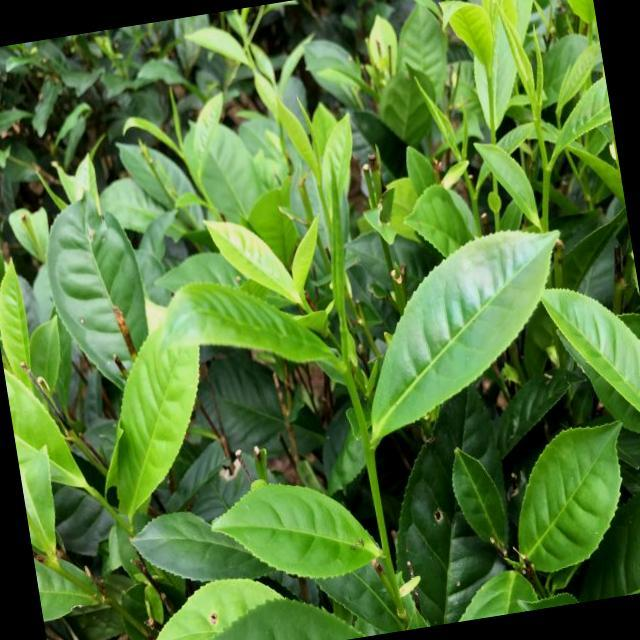Stem: (543, 166, 551, 175), (472, 193, 477, 200)
